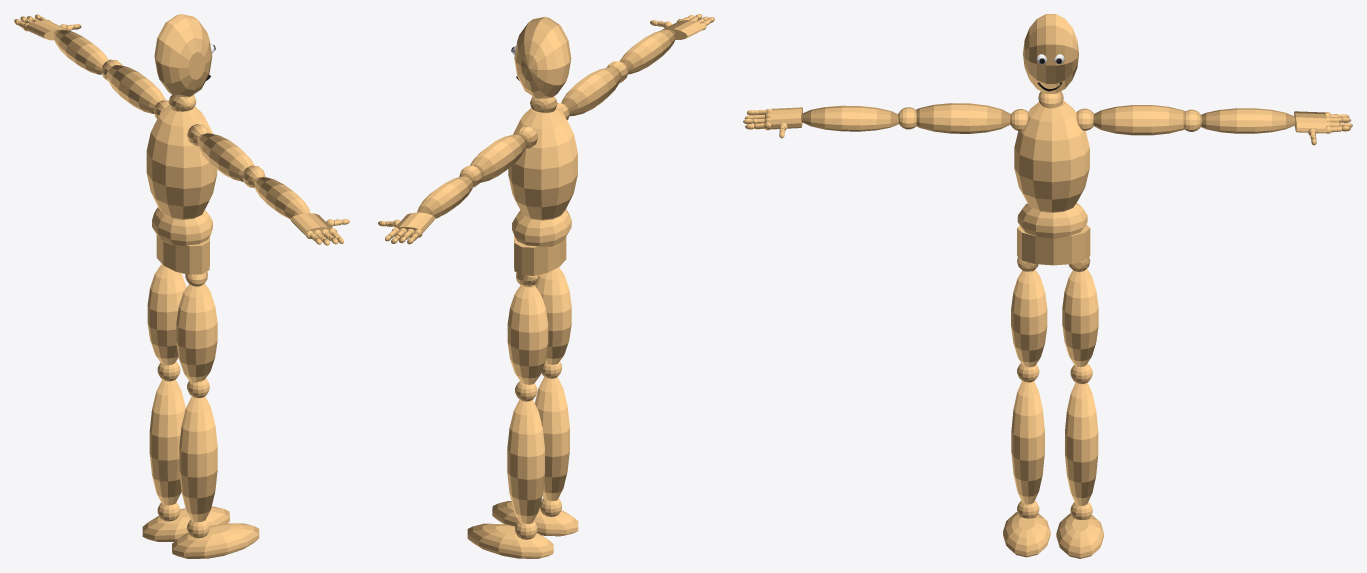
The model's file is scene_ceLzdf4iHk.glb.
3 renders of one model, left to right at view 1: azimuth 30°, elevation 25°; view 2: azimuth 150°, elevation 25°; view 3: azimuth 270°, elevation 25°, orthographic. The views are drawn at different scales.
Parts seen in each view (by area): view 1: Node; view 2: Node; view 3: Node.
Boxes of the visible parts, x1,y1,x2,y2 form: Node: [14, 14, 349, 558]; Node: [378, 14, 714, 558]; Node: [743, 14, 1352, 558].
Bounding box in the file's own units: 0.3775 × 2.05 × 2.17.
